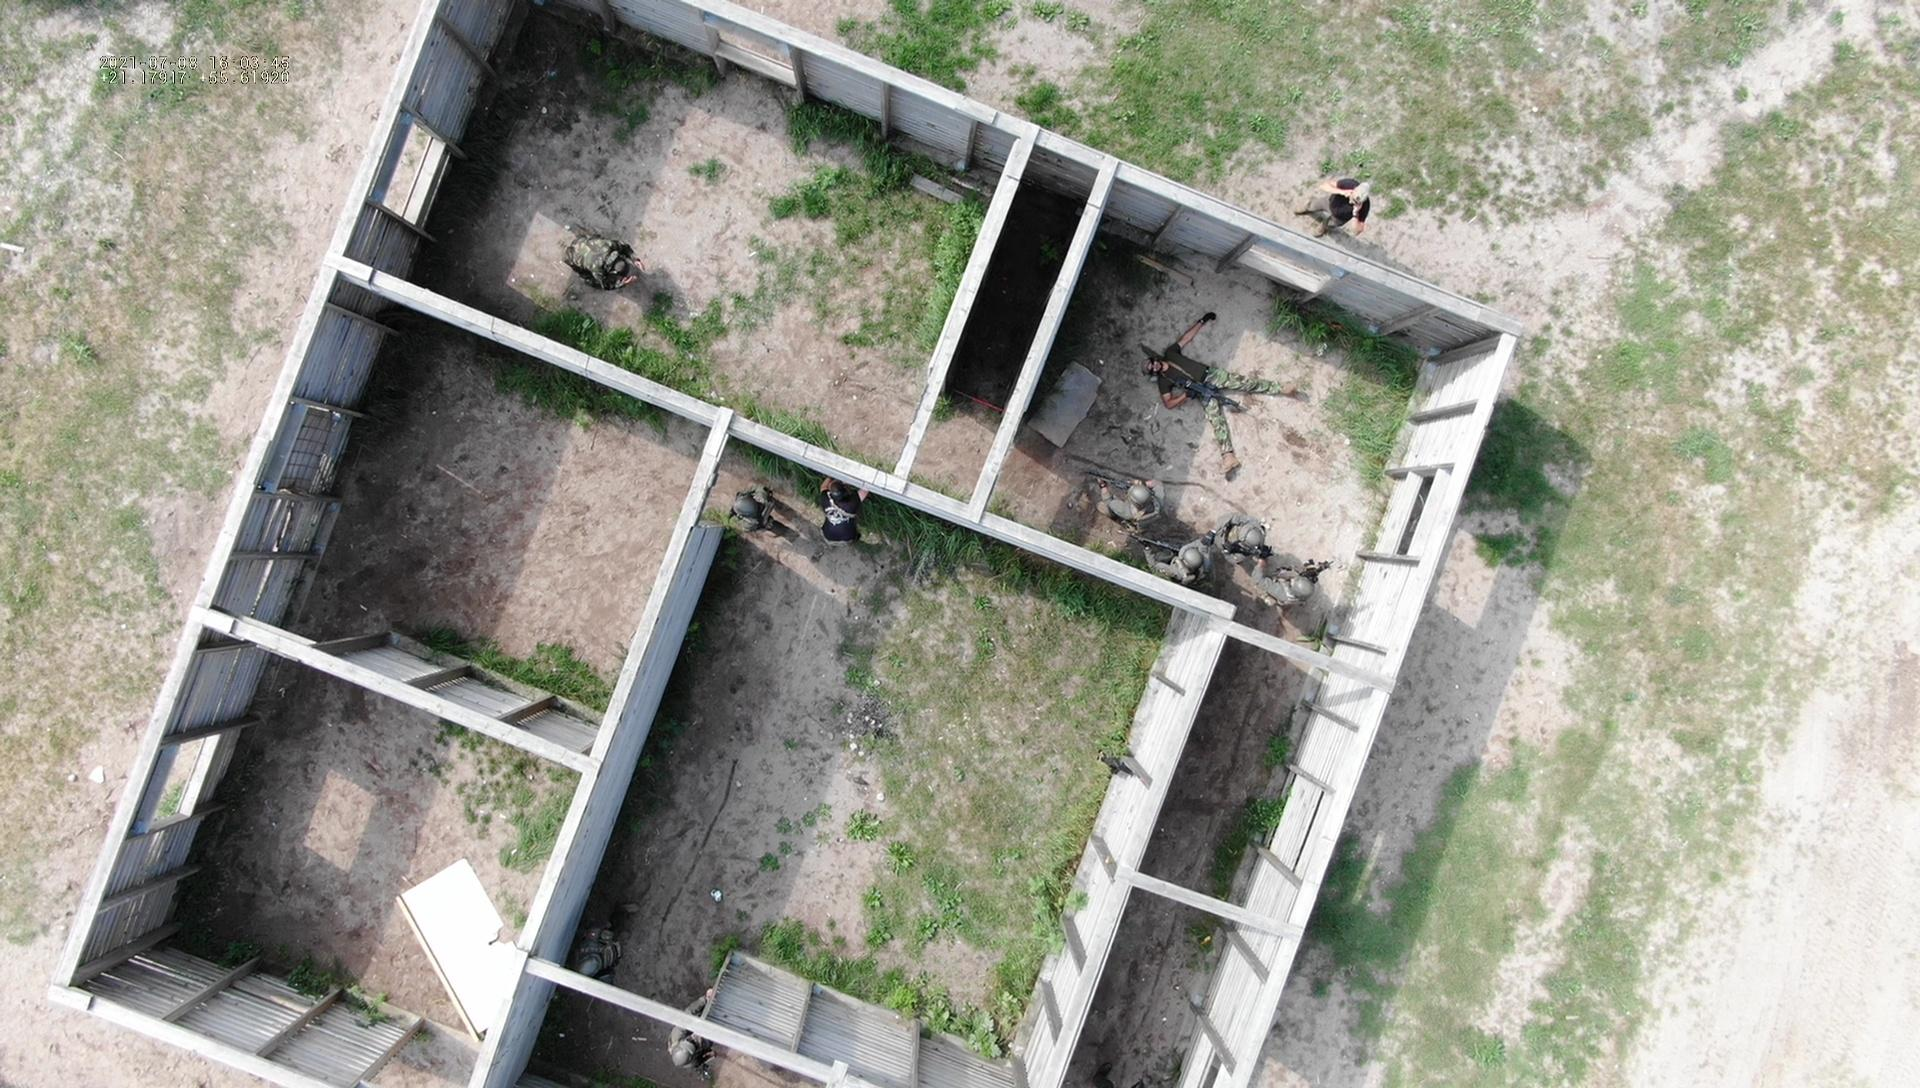Soldier: (1142, 301, 1284, 458), (816, 487, 903, 567), (1240, 550, 1340, 611), (574, 223, 646, 306), (576, 886, 645, 969), (1101, 477, 1185, 534), (1156, 522, 1221, 580), (738, 471, 794, 531), (670, 1023, 724, 1084), (1215, 513, 1271, 570)
